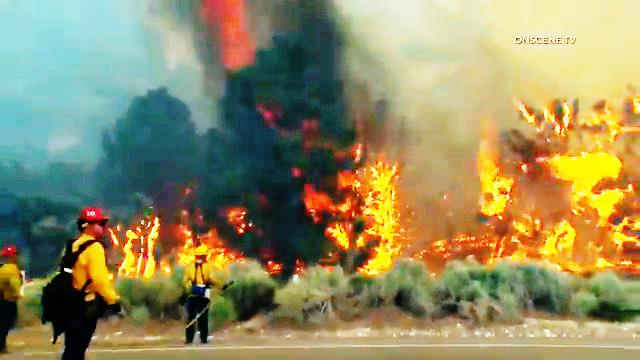fire: (311, 146, 402, 272), (541, 137, 625, 220), (126, 227, 164, 282)
smoke: (232, 3, 520, 108)
